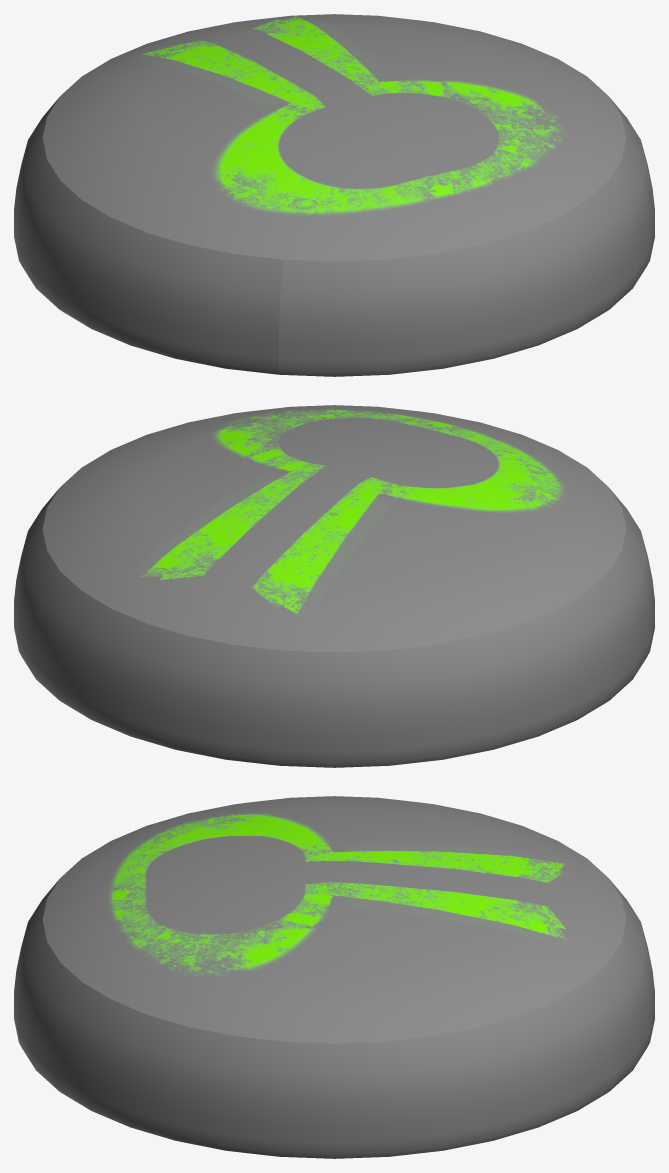
File: puzzle-rune1-wrong.fbx
3 views of the same model, one above another, from view 1: azimuth 30°, elevation 25°; view 2: azimuth 150°, elevation 25°; view 3: azimuth 270°, elevation 25° (orthographic).
Parts seen in each view (by area): view 1: Cylinder001; view 2: Cylinder001; view 3: Cylinder001.
Boxes of the visible parts, x1,y1,x2,y2 form: Cylinder001: (14,14,654,376); Cylinder001: (14,405,654,767); Cylinder001: (14,796,654,1158).
Size of the model in its own units: 4751 by 1286 by 4751.
1 material, 1 textured.
